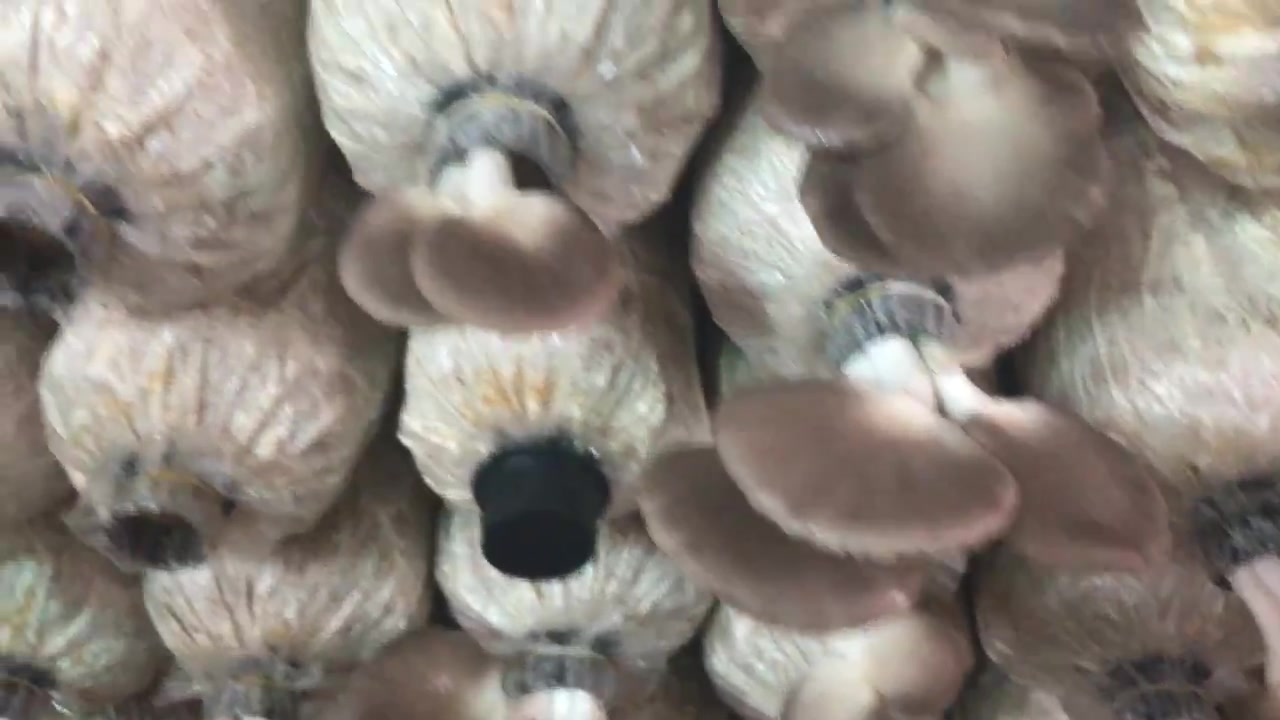nam: (646, 287, 1166, 631), (727, 1, 1144, 275), (339, 75, 613, 334)
